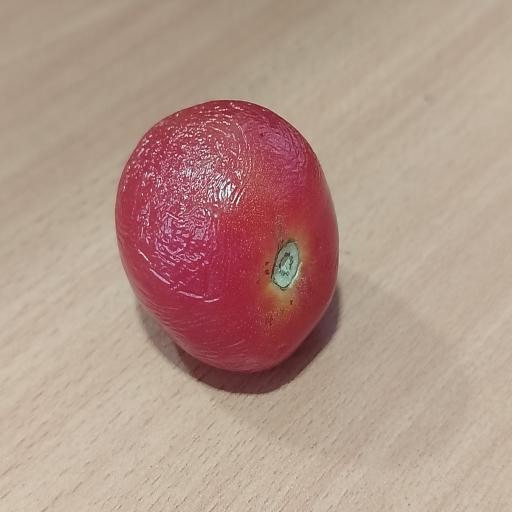spoiled: (115, 101, 338, 371)
